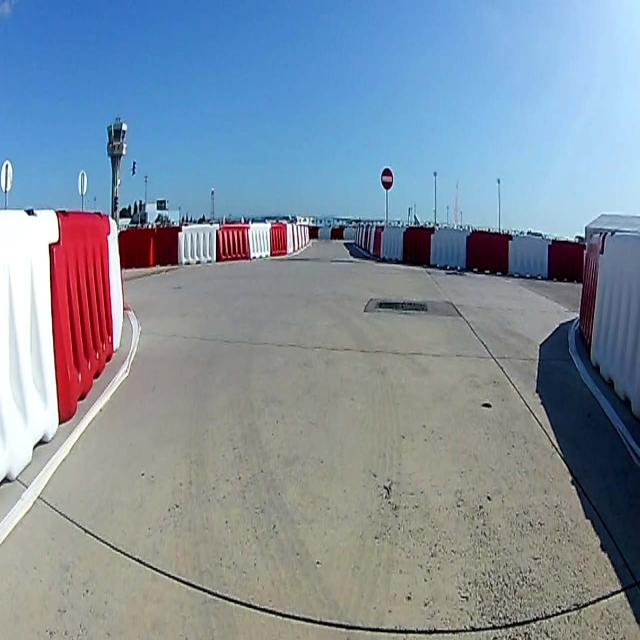girisyok: (381, 167, 394, 189)
